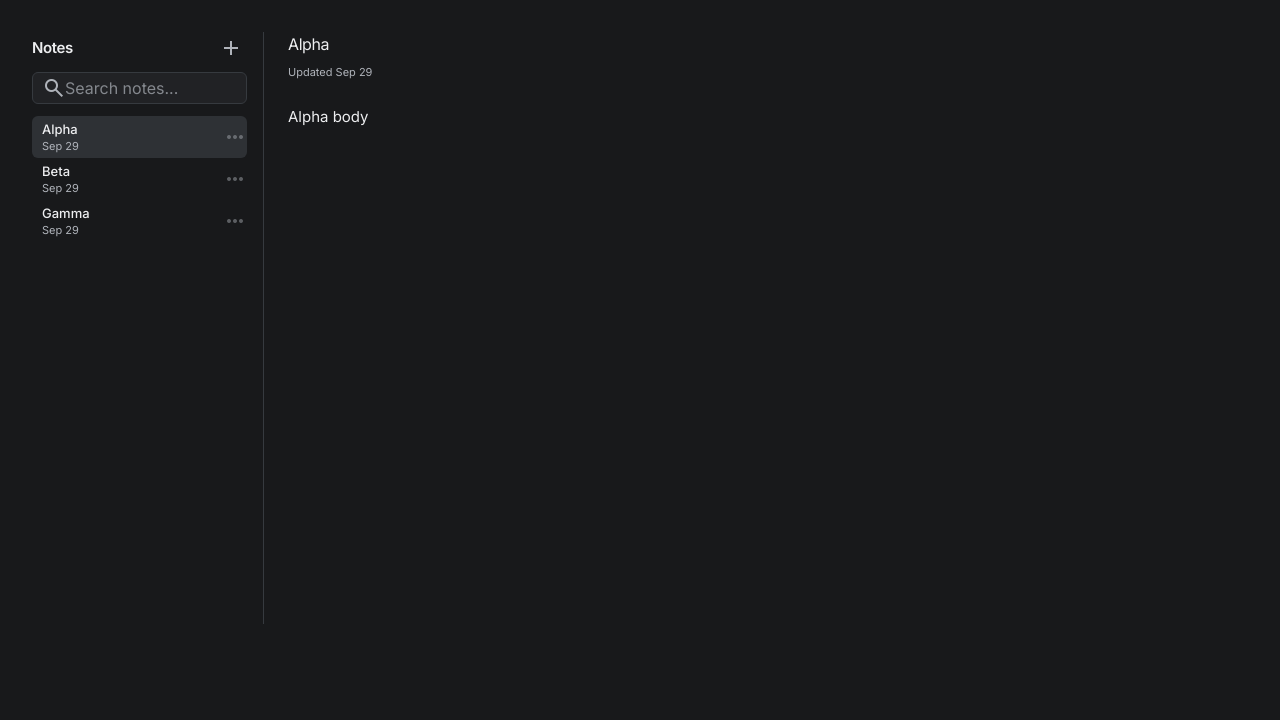
new note › clears an active search before creating so the new note is visible and selected
Type "alpha" into the search field labelled "Search notes" at coordinates (140, 88), box 32,72 -> 247,104
Wait 300 ms
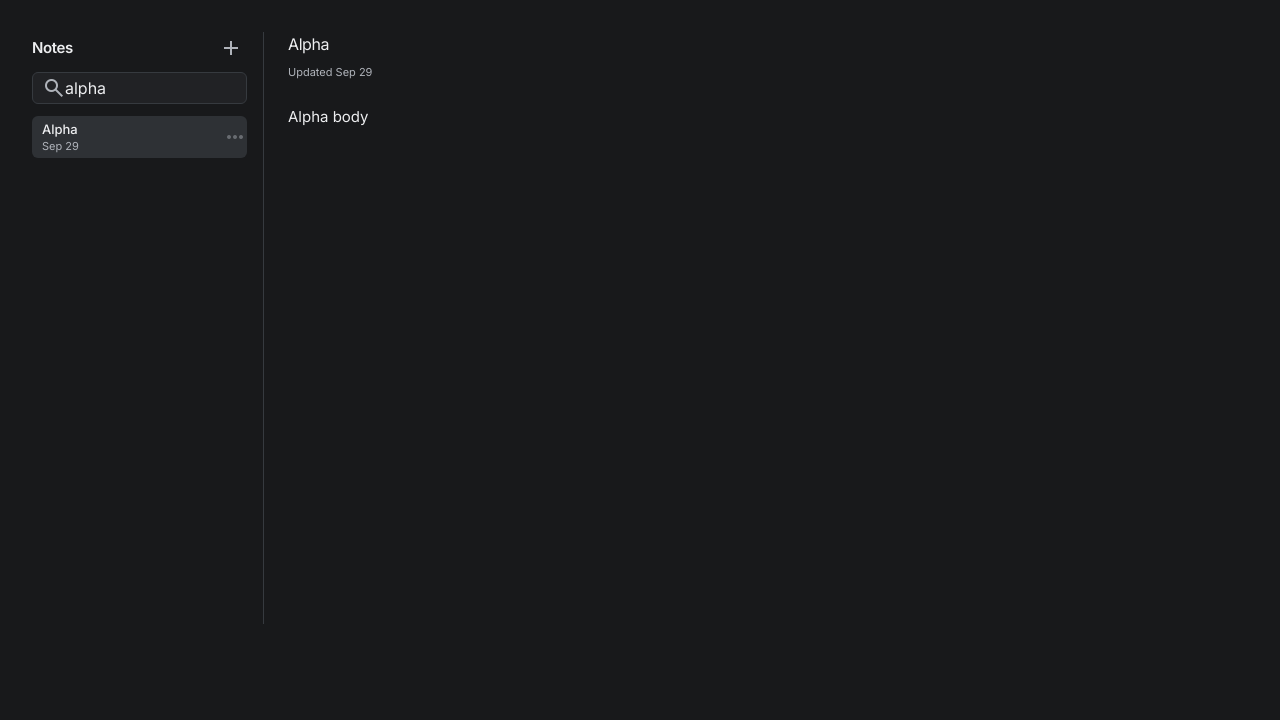
Click the button named "New note" at coordinates (231, 48), box 215,32 -> 247,64
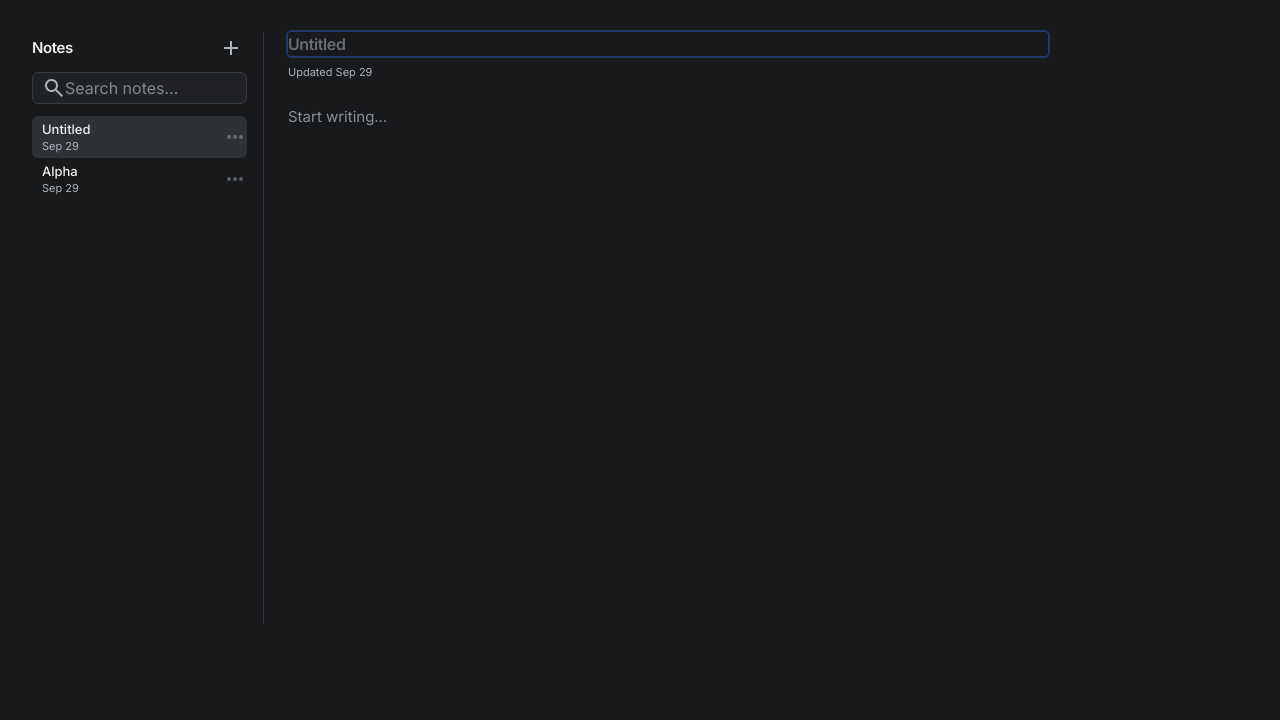
Now the search field labelled "Search notes" is empty, box 32,72 -> 247,104
Now the text with class "truncate" reads "Untitled", box 42,121 -> 90,137
